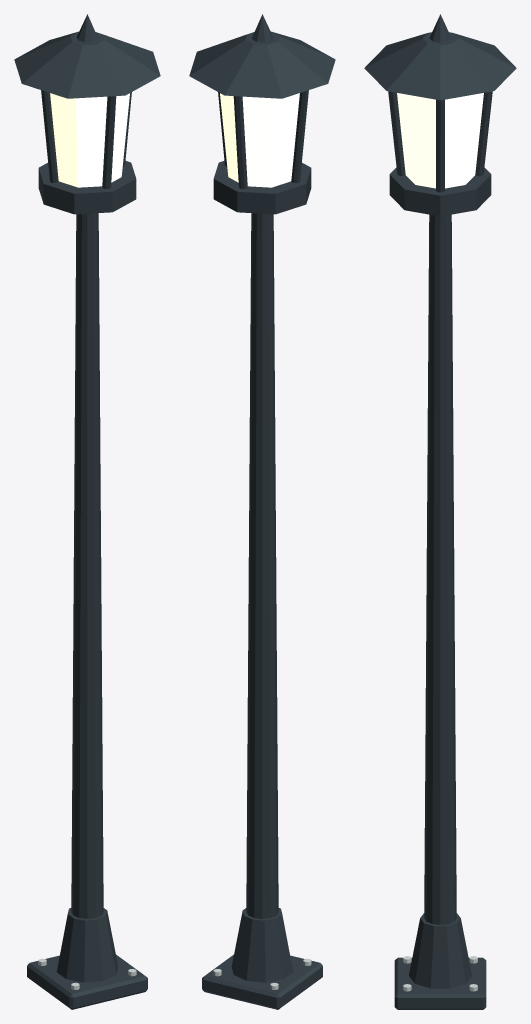
Rendered from Streetlight_Heritage.glb.
3 renders of one model, left to right at view 1: azimuth 30°, elevation 25°; view 2: azimuth 150°, elevation 25°; view 3: azimuth 270°, elevation 25°, orthographic.
Visible parts, largest first — view 1: Streetlight_Heritage; view 2: Streetlight_Heritage; view 3: Streetlight_Heritage.
Boxes of the visible parts, x1,y1,x2,y2 form: Streetlight_Heritage: (14,14,160,1009); Streetlight_Heritage: (189,14,335,1009); Streetlight_Heritage: (364,14,516,1009).
Size of the model in its own units: 0.6 by 4.24 by 0.6.
